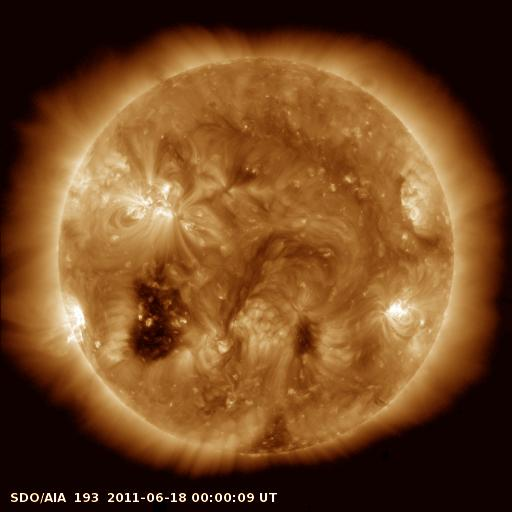coronal_hole: (124, 274, 193, 365), (241, 413, 301, 464)
